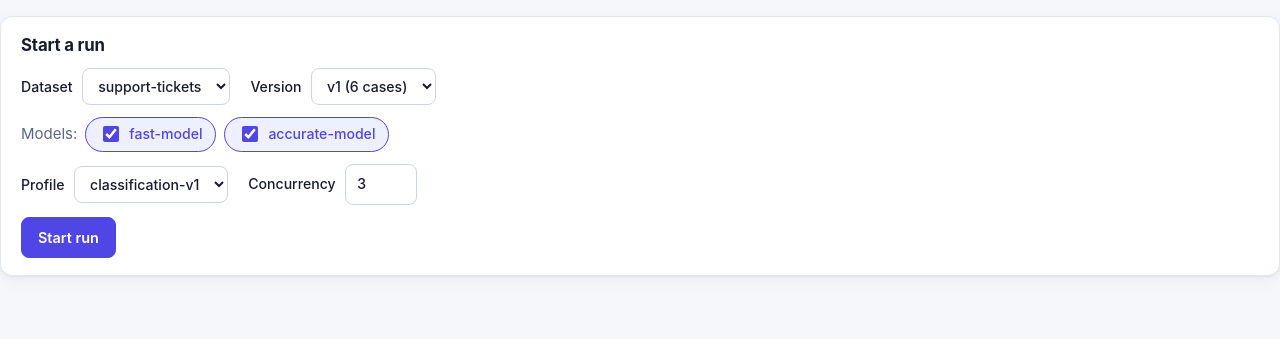
Scenario: NewRunForm › shows why a run could not be started
Click the button "Start run" at (68, 237), box top-left (21, 217), bottom-right (116, 258)
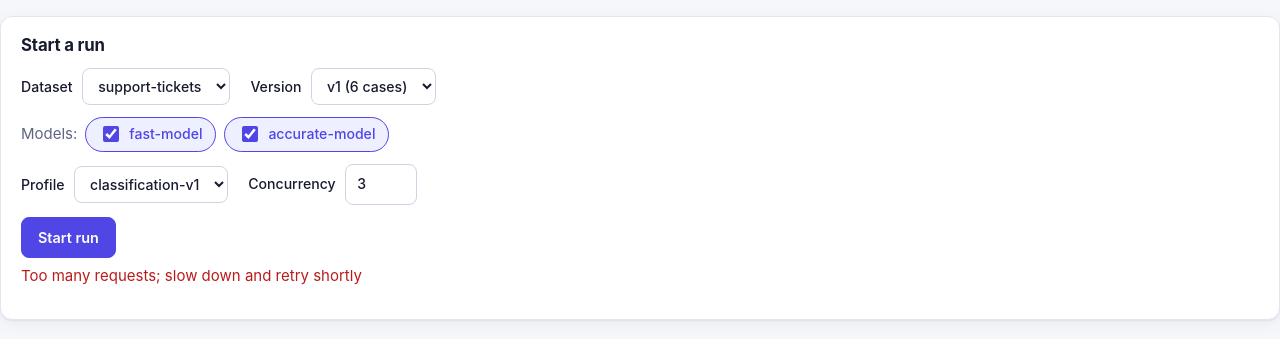
Expected: the text "Too many requests; slow down and retry shortly" is shown, top-left (21, 266), bottom-right (362, 285)
